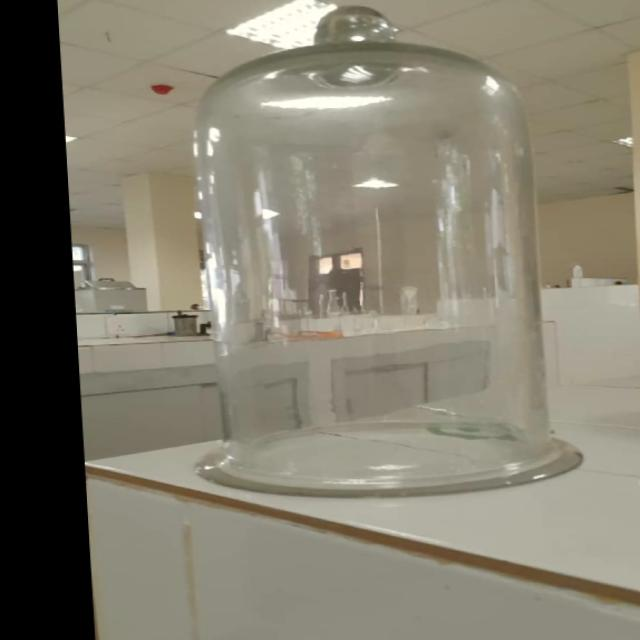Gas Bottle: (155, 6, 589, 503)
